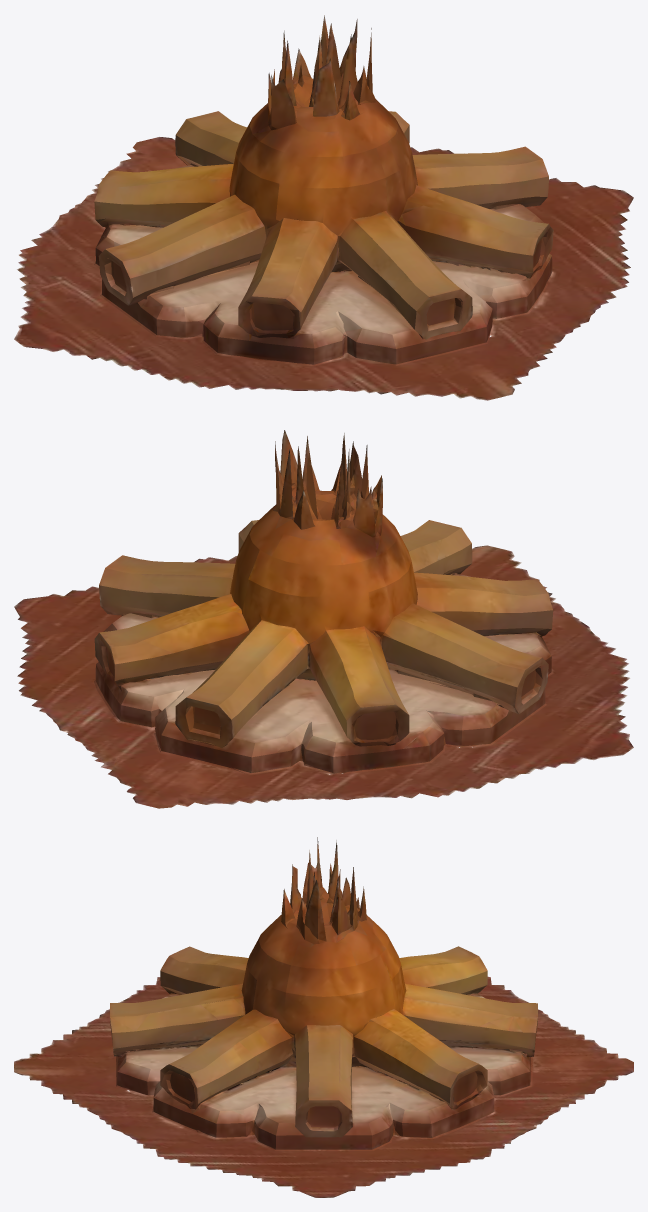
File: army-camp-1.glb
The picture shows the model from 3 angles, top to bottom: view 1: azimuth 30°, elevation 25°; view 2: azimuth 150°, elevation 25°; view 3: azimuth 270°, elevation 25°; orthographic projection. The views are drawn at different scales.
Visible parts, largest first — view 1: model; view 2: model; view 3: model.
Part boxes in pixels (x1,y1,x2,y2): model: [14, 15, 633, 400]; model: [14, 430, 633, 808]; model: [14, 837, 633, 1197].
Size of the model in its own units: 1.9 by 0.7226 by 1.9.
1 material, 1 textured.
